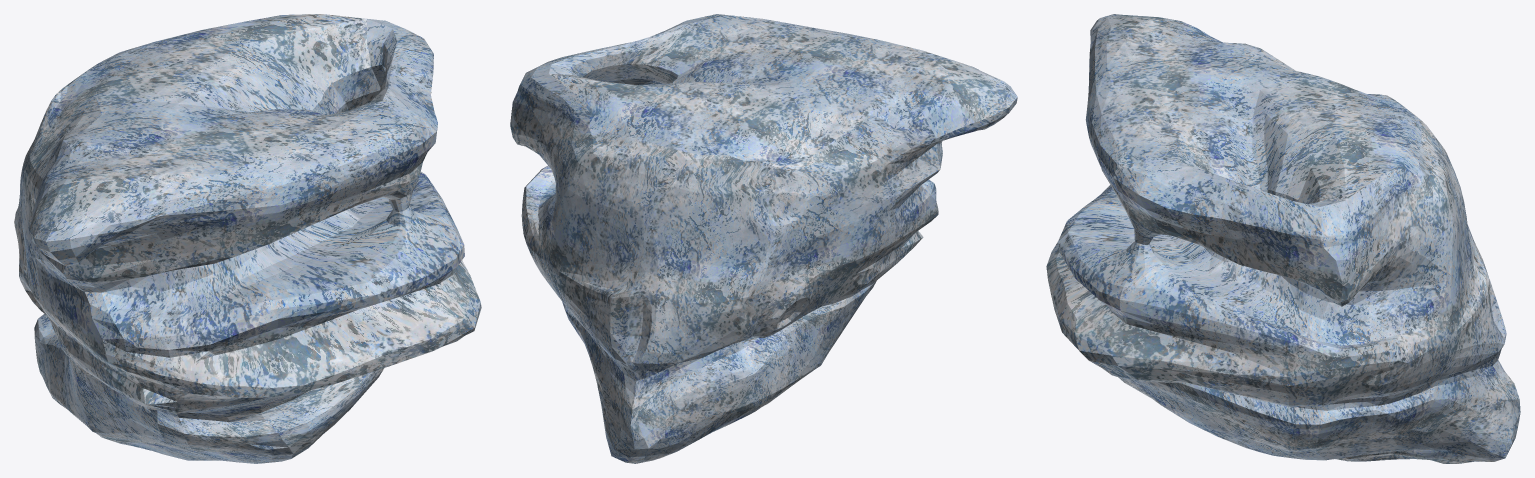
The model's file is planetoid_ice_s01_l0.fbx.
The picture shows the model from 3 angles, left to right: view 1: azimuth 30°, elevation 25°; view 2: azimuth 150°, elevation 25°; view 3: azimuth 270°, elevation 25°; orthographic projection. The views are drawn at different scales.
Visible parts, largest first — view 1: mesh_node; view 2: mesh_node; view 3: mesh_node.
Boxes of the visible parts, x1=… form: mesh_node: x1=14, y1=14, x2=481, y2=463; mesh_node: x1=510, y1=14, x2=1017, y2=463; mesh_node: x1=1046, y1=14, x2=1520, y2=463.
Bounding box in the file's own units: 585 × 446 × 536.
1 material, 1 textured.
